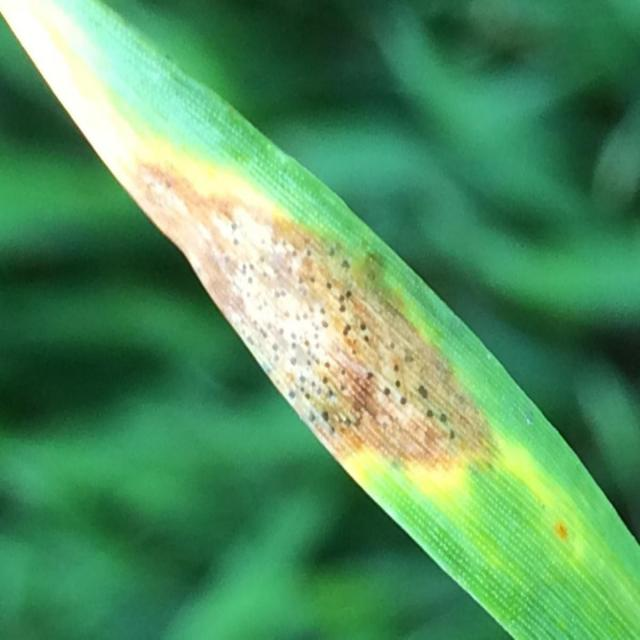wheat-septoria: (124, 161, 500, 468)
